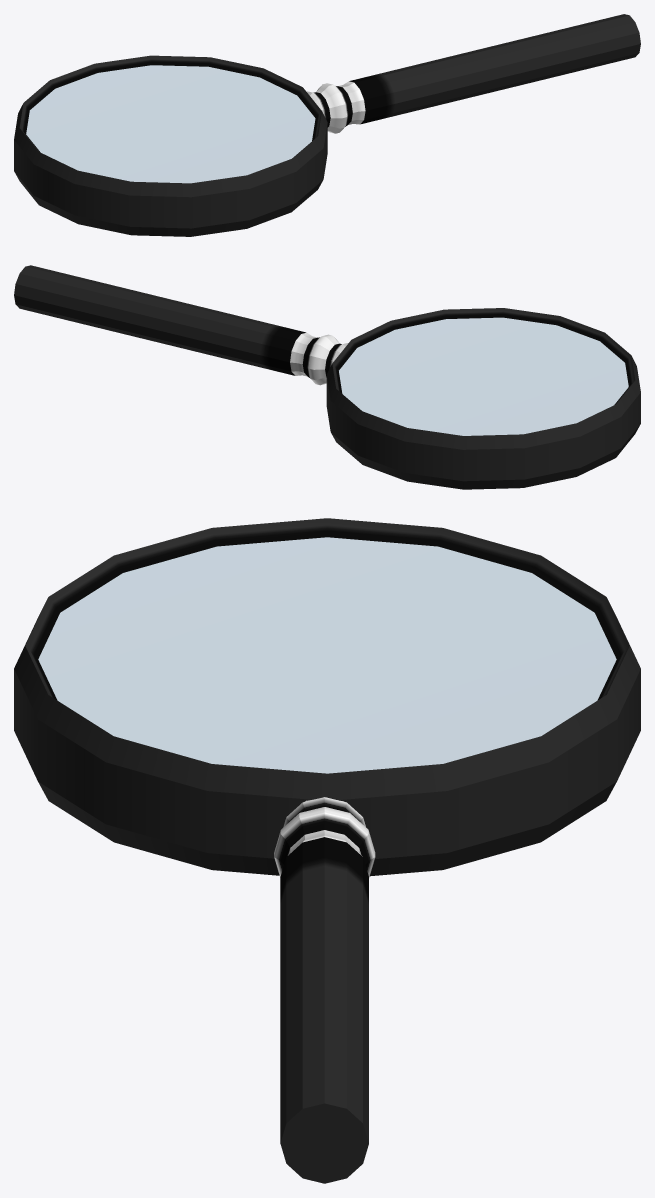
The picture shows the model from 3 angles, top to bottom: view 1: azimuth 30°, elevation 25°; view 2: azimuth 150°, elevation 25°; view 3: azimuth 270°, elevation 25°; orthographic projection. The views are drawn at different scales.
Parts seen in each view (by area): view 1: magnifying_glass_combine; view 2: magnifying_glass_combine; view 3: magnifying_glass_combine.
Part boxes in pixels (x1,y1,x2,y2): magnifying_glass_combine: (14, 14, 640, 236); magnifying_glass_combine: (14, 265, 640, 489); magnifying_glass_combine: (14, 518, 640, 1183).
Bounding box in the file's own units: 0.0699 × 0.00602 × 0.0322.
1 material, 1 textured.
